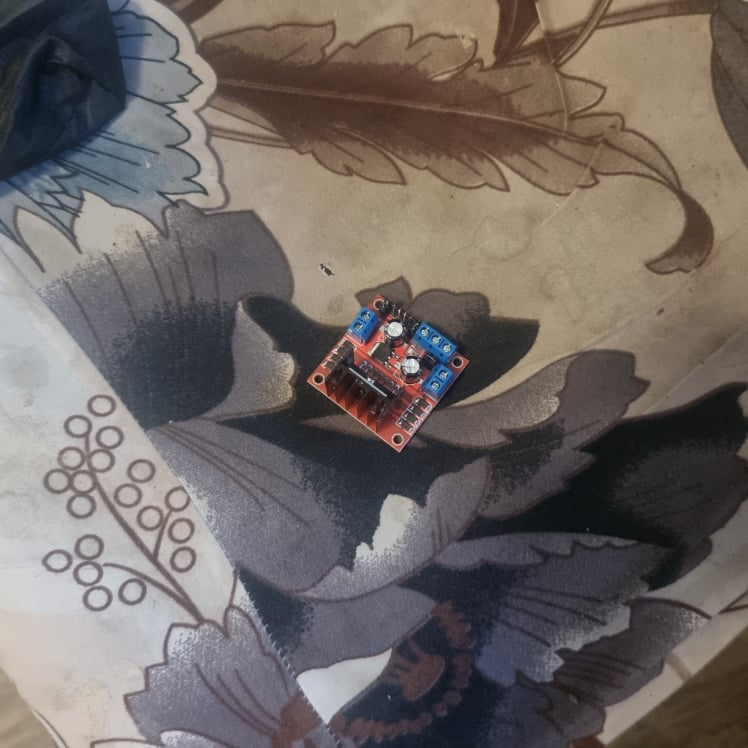MOTOR: (305, 297, 469, 453)
